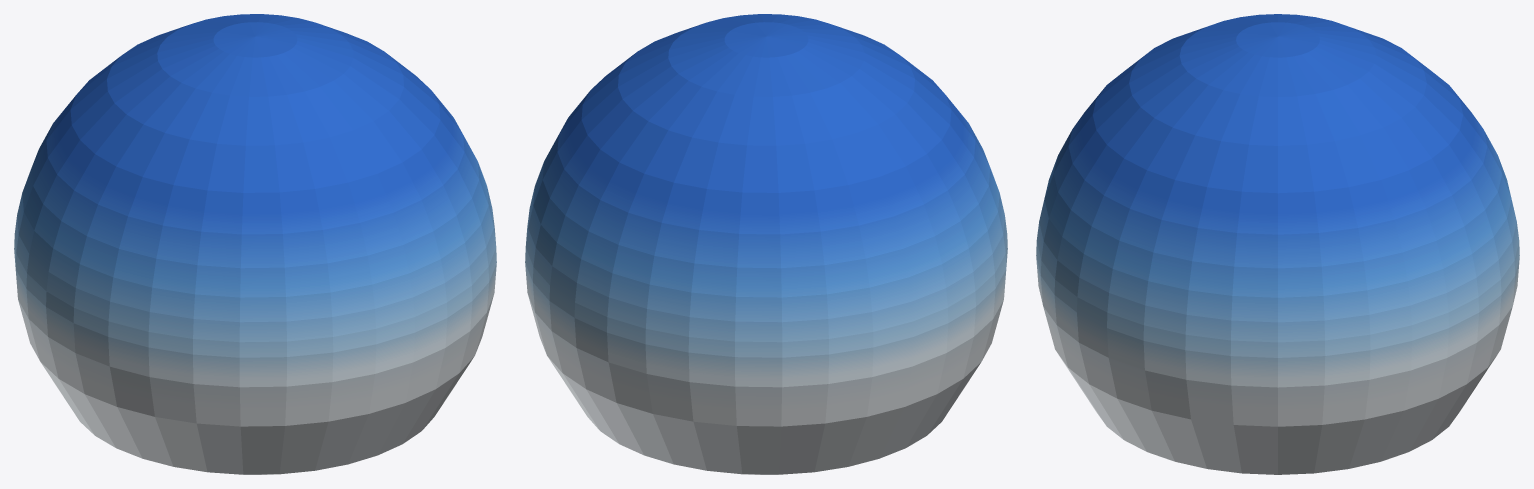
File: himalaya.glb
3 views of the same model, side by side, from view 1: azimuth 30°, elevation 25°; view 2: azimuth 150°, elevation 25°; view 3: azimuth 270°, elevation 25° (orthographic).
Visible parts, largest first — view 1: sky; view 2: sky; view 3: sky.
Boxes of the visible parts, left/top/right/bottom form: sky: left=14, top=14, right=496, bottom=474; sky: left=525, top=14, right=1007, bottom=474; sky: left=1036, top=14, right=1519, bottom=474.
Bounding box in the file's own units: 640 × 640 × 640.
Materials: 3 (3 with a texture image).
